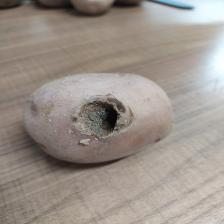Damaged potato: (18, 71, 178, 168)
